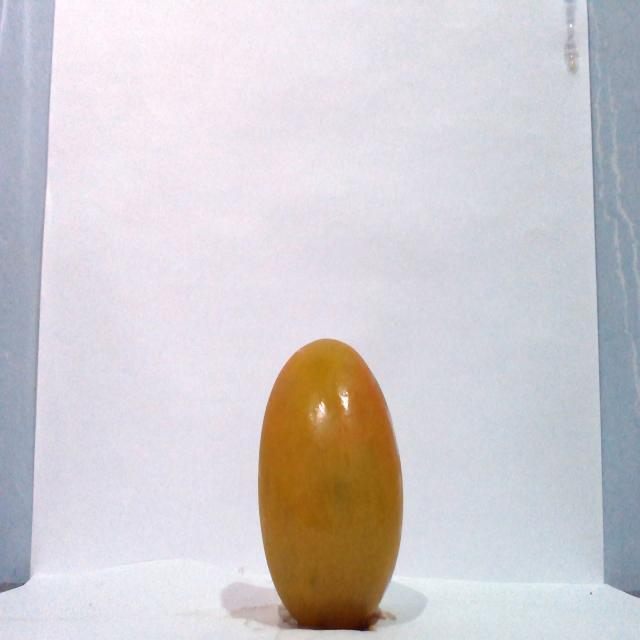Red: (256, 336, 404, 629)
